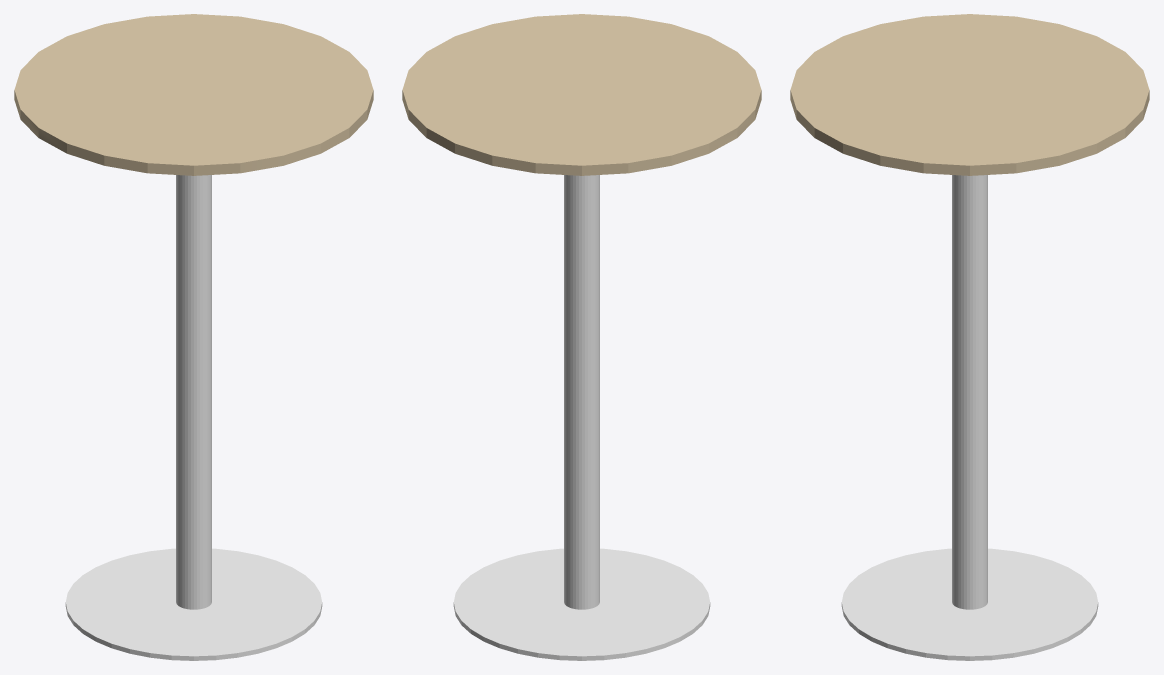
File: spot-stand-poyta.fbx
3 renders of one model, left to right at view 1: azimuth 30°, elevation 25°; view 2: azimuth 150°, elevation 25°; view 3: azimuth 270°, elevation 25°, orthographic.
Visible parts, largest first — view 1: Group3, Group2; view 2: Group3, Group2; view 3: Group3, Group2.
Part boxes in pixels (x1=…): Group3: x1=14, y1=14, x2=373, y2=175; Group2: x1=65, y1=175, x2=322, y2=660; Group3: x1=402, y1=14, x2=761, y2=175; Group2: x1=453, y1=175, x2=710, y2=660; Group3: x1=790, y1=14, x2=1149, y2=175; Group2: x1=841, y1=175, x2=1098, y2=660.
Size of the model in its own units: 700 by 1112 by 700.
